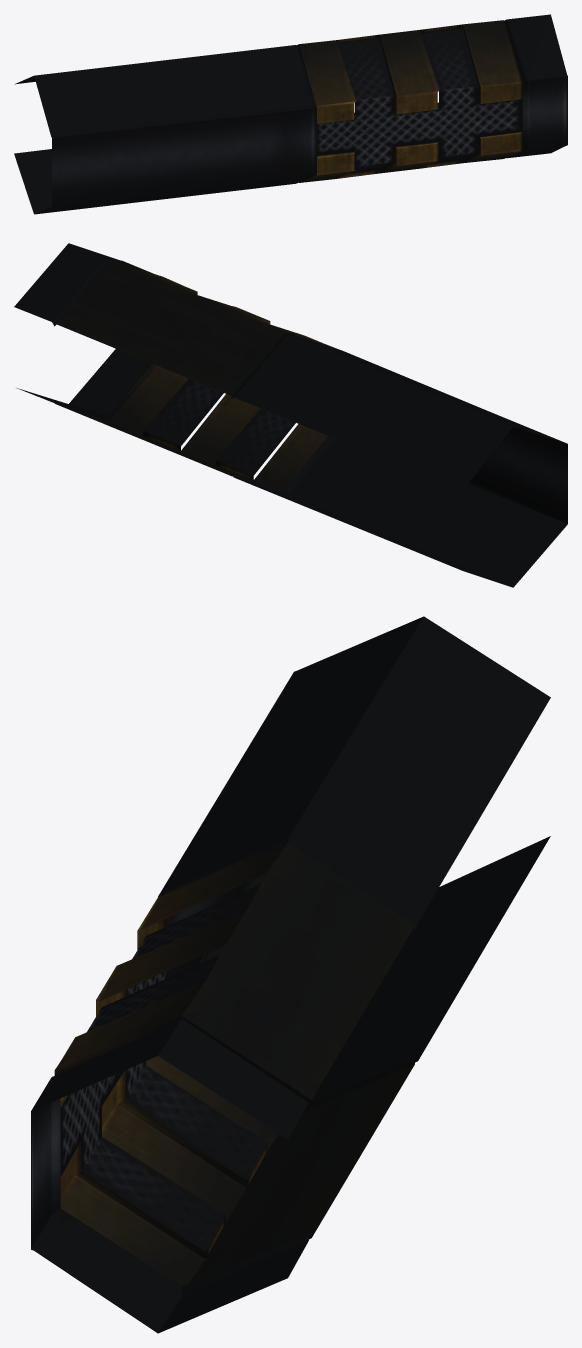
Rendered from v_rock_1.obj.
The picture shows the model from 3 angles, top to bottom: view 1: azimuth 30°, elevation 25°; view 2: azimuth 150°, elevation 25°; view 3: azimuth 270°, elevation 25°; orthographic projection. The views are drawn at different scales.
Bounding box in the file's own units: 19.08 × 5.28 × 8.96.
Materials: 1 (1 with a texture image).
